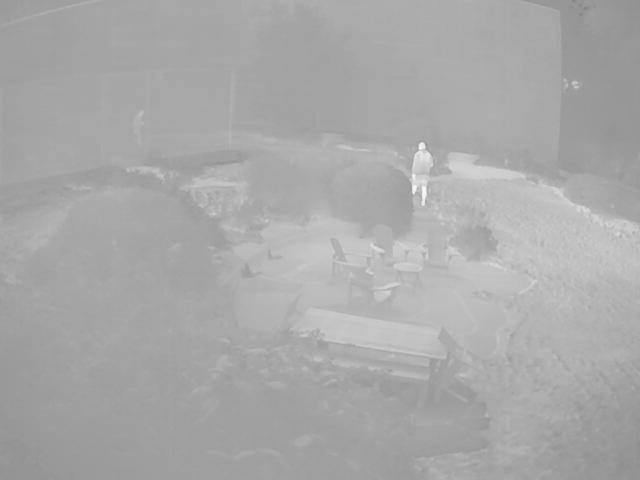person: (409, 140, 434, 207)
